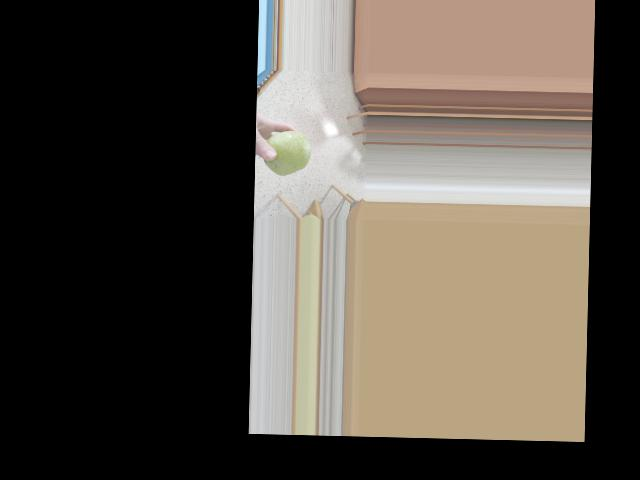apple: (261, 127, 313, 179)
